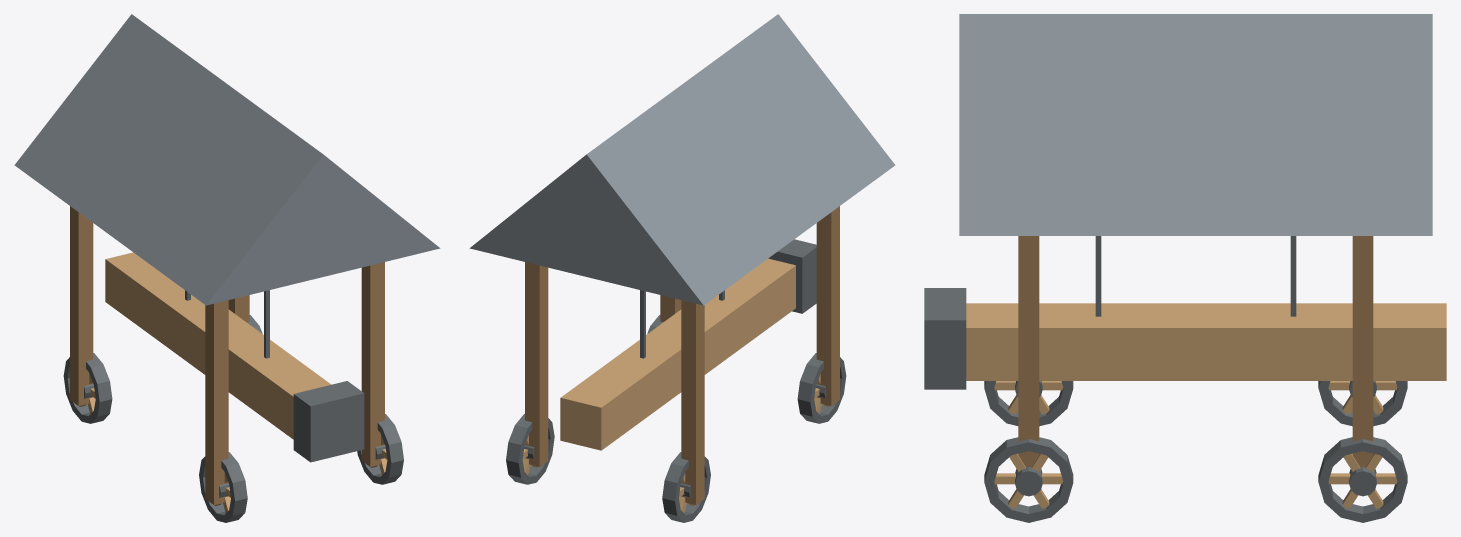
The model's file is battering-ram.glb.
The picture shows the model from 3 angles, left to right: view 1: azimuth 30°, elevation 25°; view 2: azimuth 150°, elevation 25°; view 3: azimuth 270°, elevation 25°; orthographic projection. The views are drawn at different scales.
Parts seen in each view (by area): view 1: battering-ram; view 2: battering-ram; view 3: battering-ram.
Part boxes in pixels (x1,y1,x2,y2): battering-ram: (14,14,440,522); battering-ram: (469,14,895,522); battering-ram: (924,14,1446,522).
Bounding box in the file's own units: 2.4 × 3.6 × 3.75.
